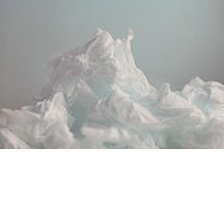tissue: (0, 20, 224, 148)
